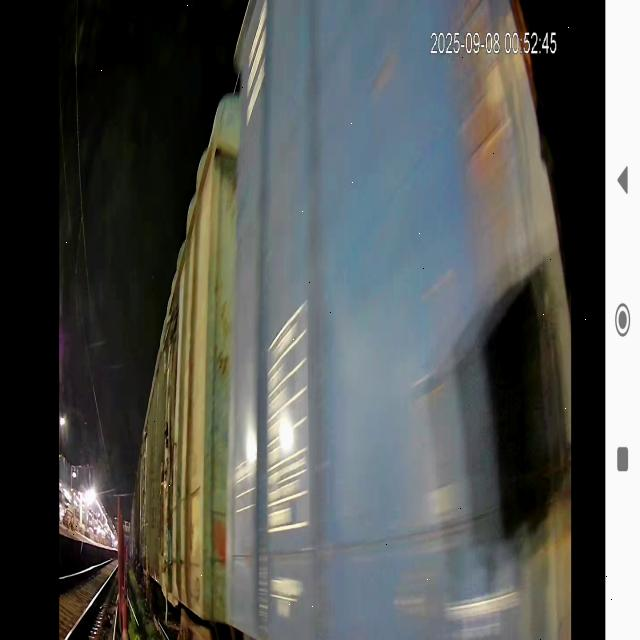joint: (193, 0, 287, 640)
